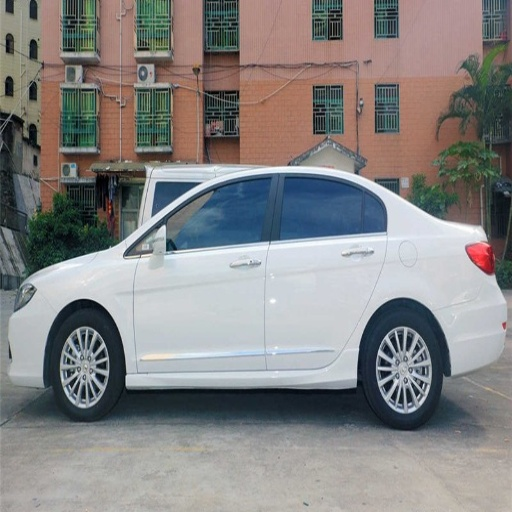back_left_door: (266, 172, 391, 370)
front_left_door: (137, 173, 277, 371)
